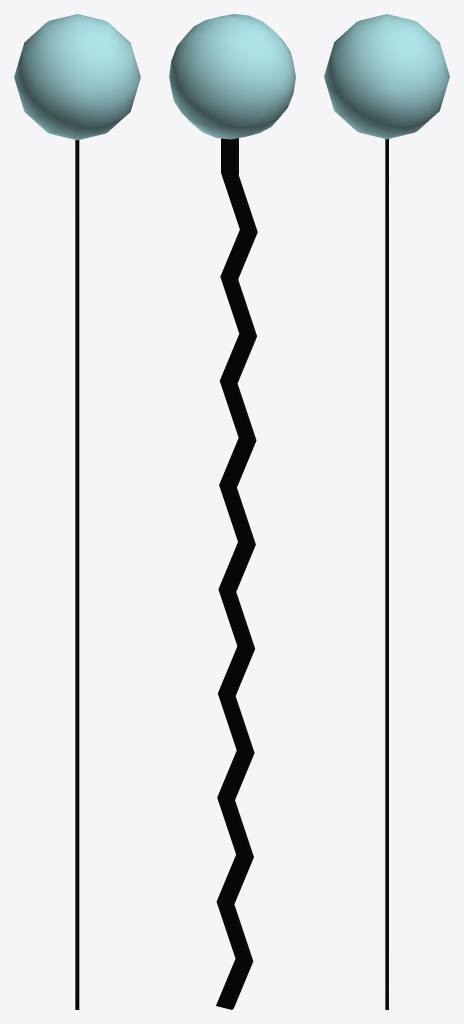
Rendered from micells.fbx.
The picture shows the model from 3 angles, left to right: view 1: azimuth 90°, elevation 25°; view 2: azimuth 150°, elevation 25°; view 3: azimuth 270°, elevation 25°; orthographic projection.
Visible parts, largest first — view 1: pCube13; view 2: pCube13; view 3: pCube13.
Part boxes in pixels (x1,y1,x2,y2): pCube13: (14, 14, 140, 1009); pCube13: (169, 14, 295, 1009); pCube13: (324, 14, 449, 1009).
Bounding box in the file's own units: 6.48 × 55.82 × 6.48.
